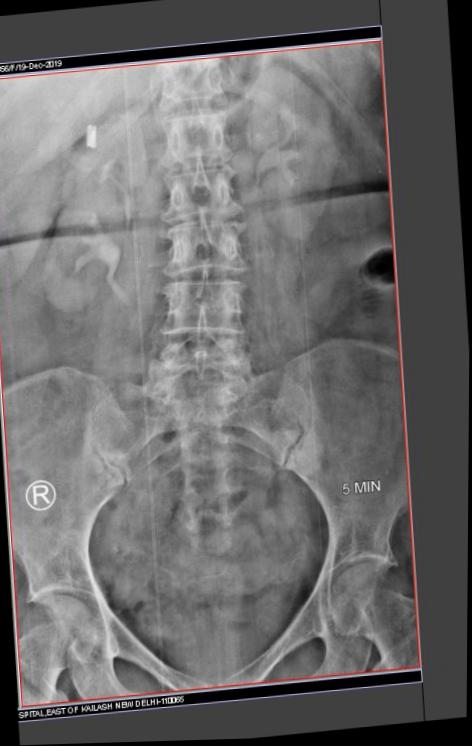left kidney: (280, 5, 408, 229)
right kidney: (30, 68, 182, 310)
vertebrae: (186, 60, 277, 136)
